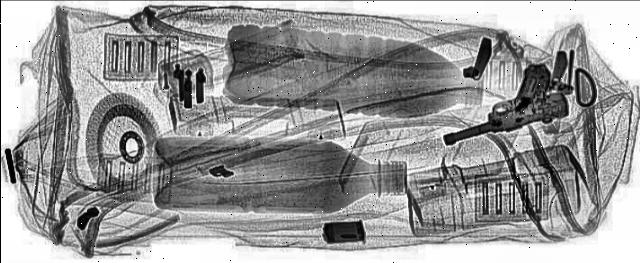Gun: (382, 62, 620, 148)
